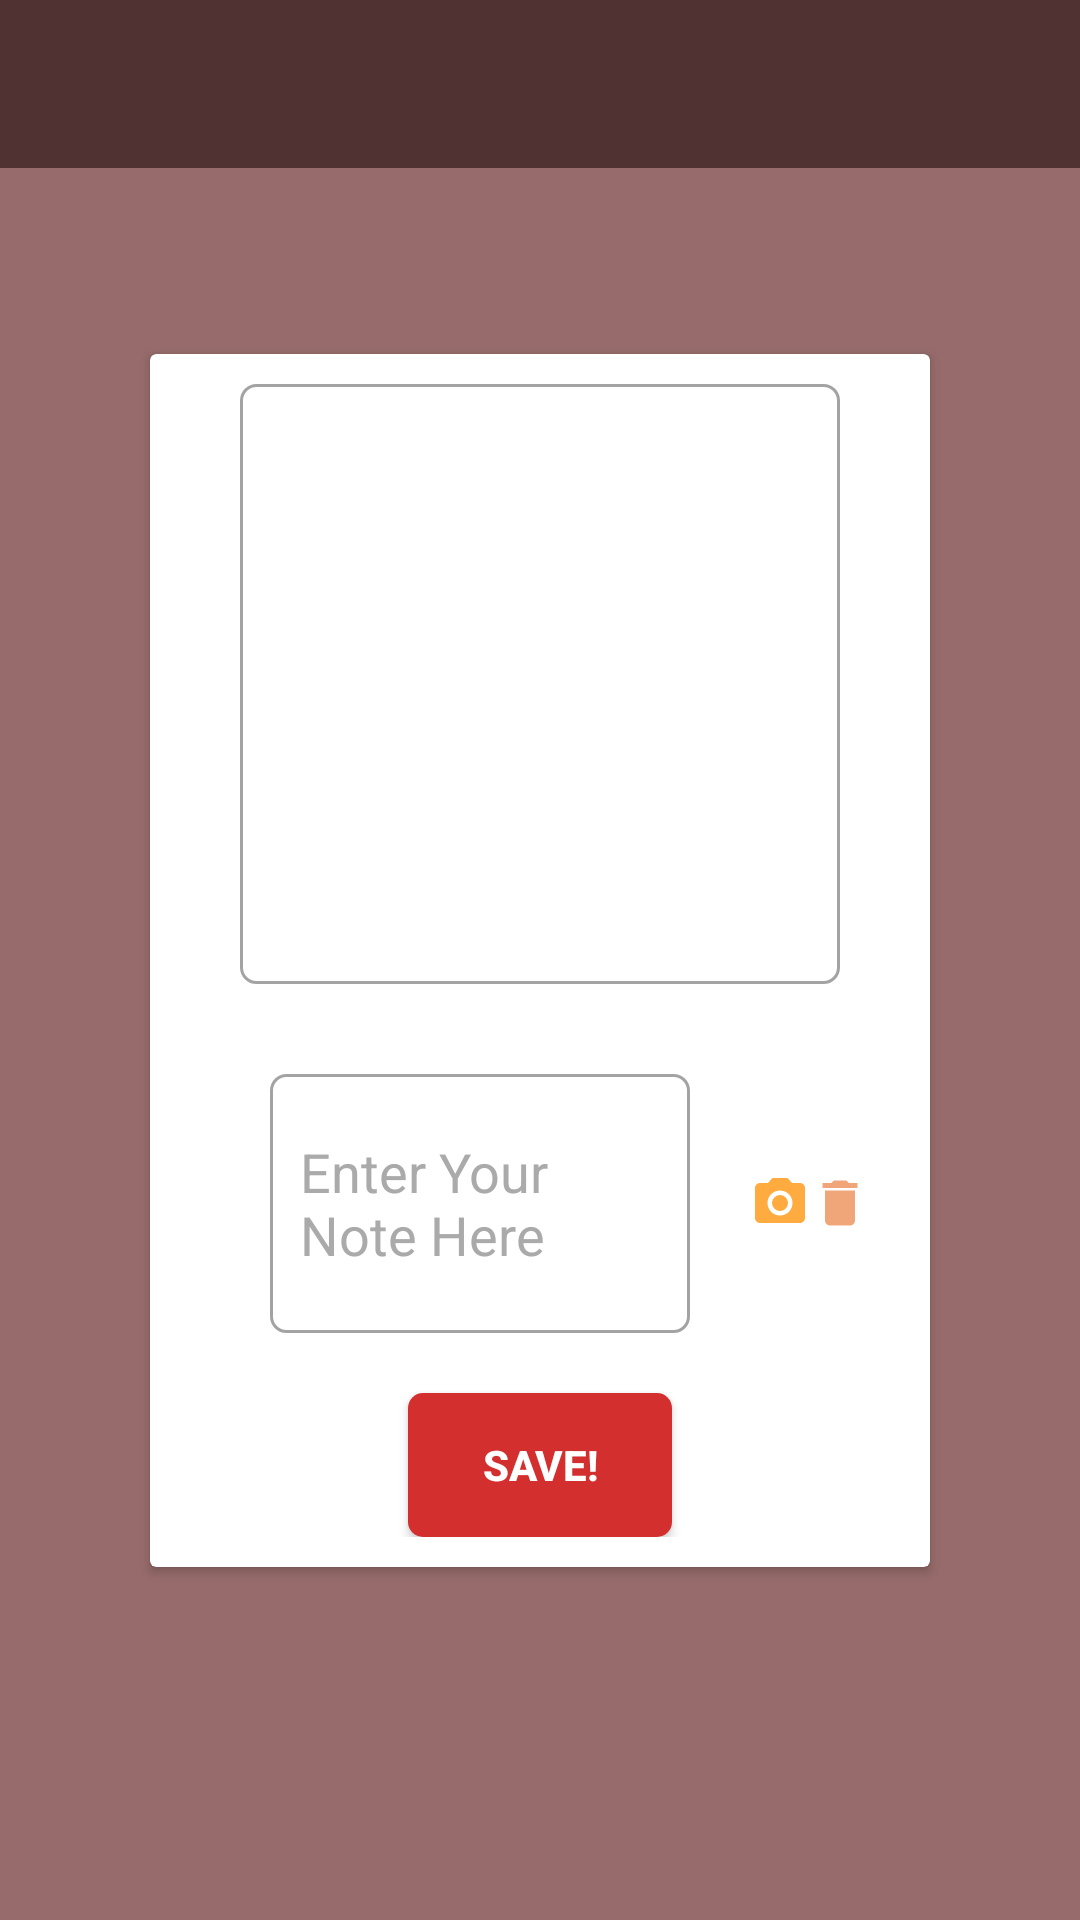

Icon bounding boxes for this 1080x1920 phone screenshot, format (x1, y1, x2, y2):
delete: (822, 1180, 858, 1226)
photo camera: (755, 1178, 805, 1223)
